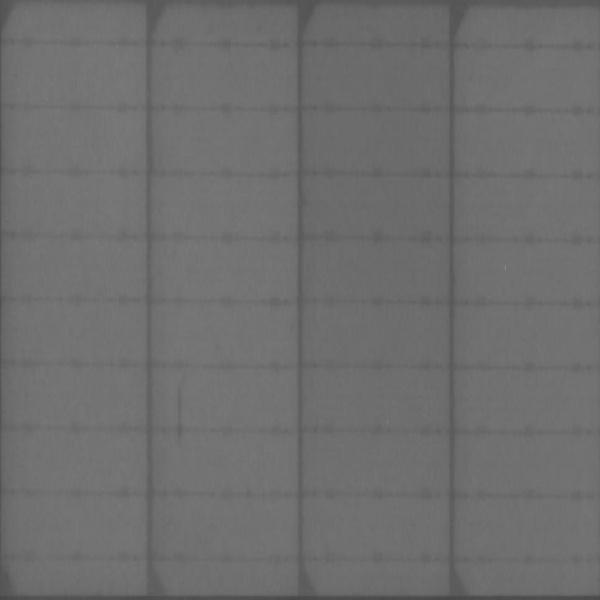scratch: (171, 373, 191, 444)
